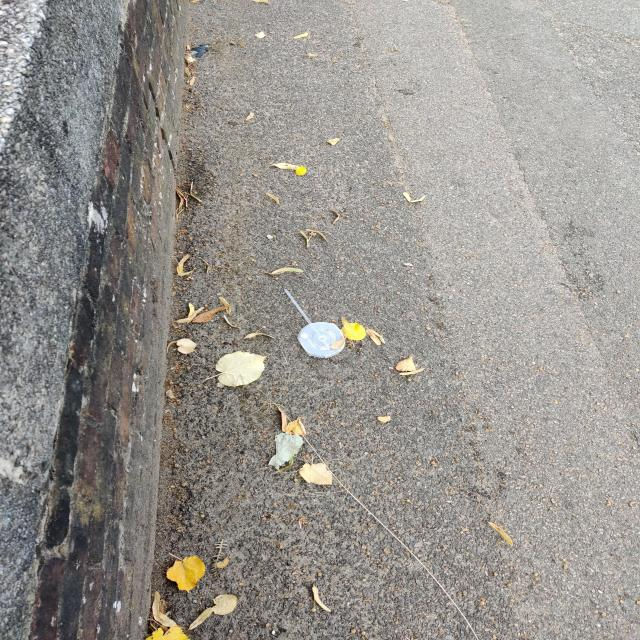litter: (278, 286, 352, 361)
